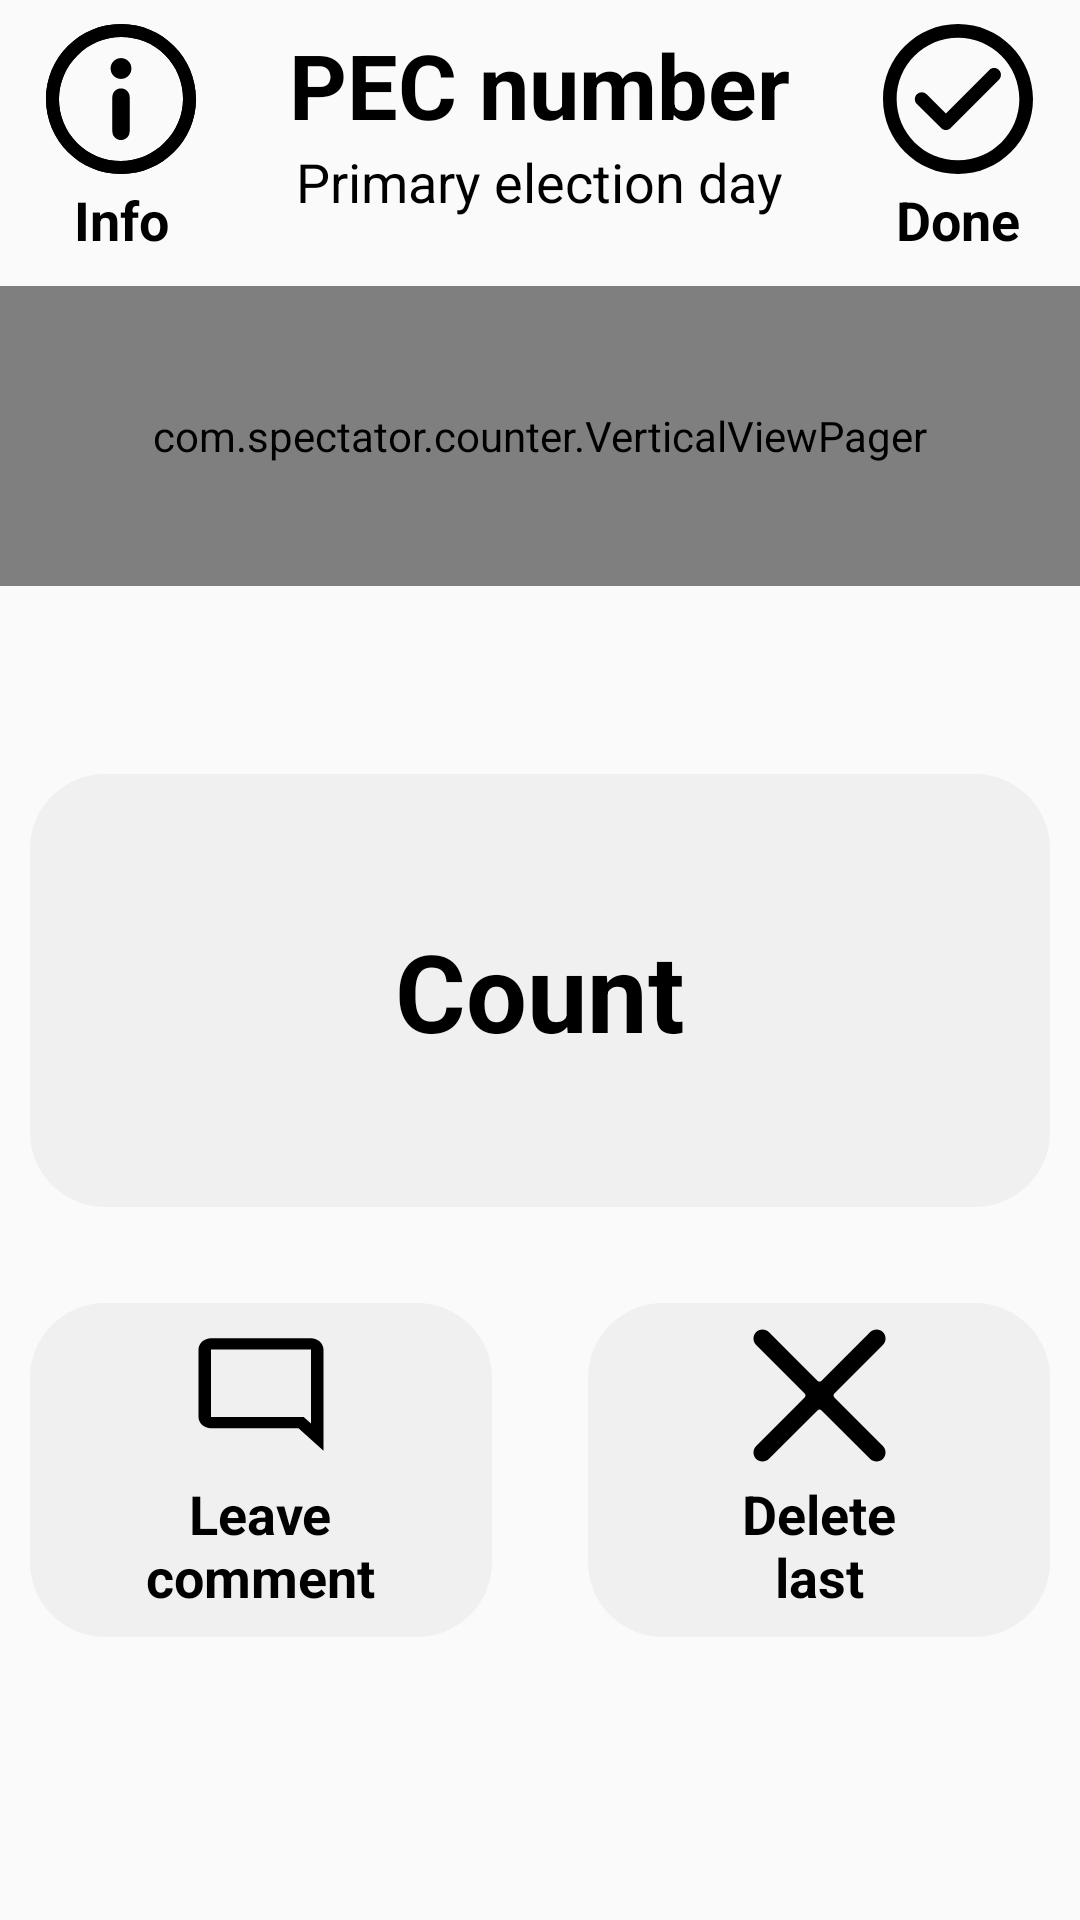

Icons on this 1080 × 1920 Android screen, each with the point to tap as point (x, y):
cancel: point (819, 1395)
help: point (121, 99)
